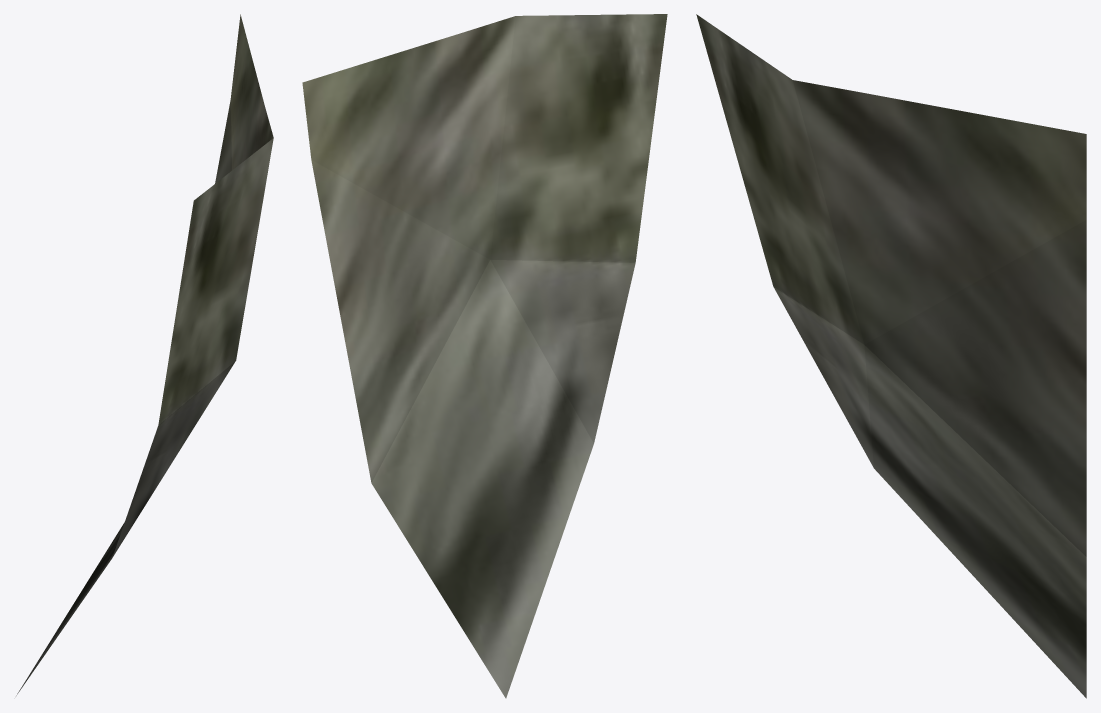
3 renders of one model, left to right at view 1: azimuth 30°, elevation 25°; view 2: azimuth 150°, elevation 25°; view 3: azimuth 270°, elevation 25°, orthographic. The views are drawn at different scales.
Bounding box in the file's own units: 0.748 × 1.99 × 1.03.
1 material, 1 textured.
